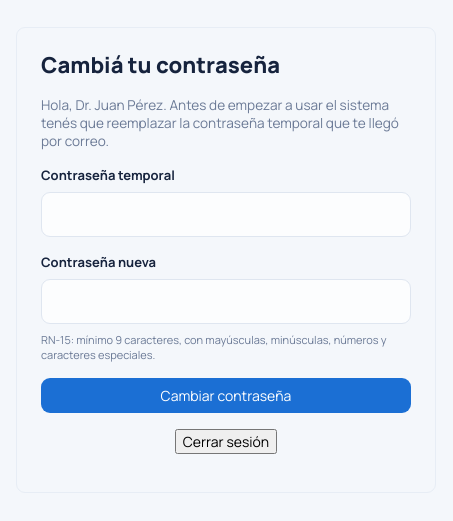
Test case: CambiarPassword › una contraseña que no cumple RN-15 muestra el error sobre el campo
In the password field labelled "Contraseña temporal": (226, 214) [41, 192, 411, 236], type "Ab3$Kd9!Xz2P"
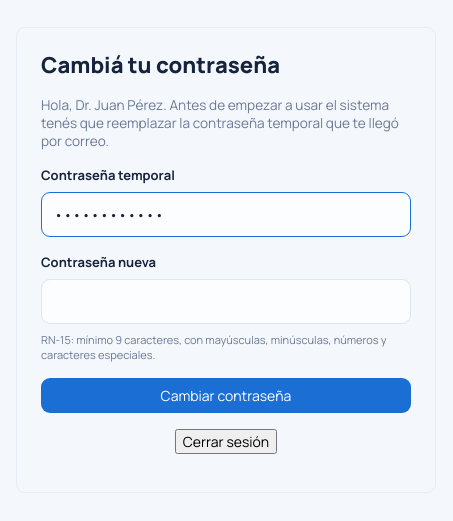
In the password field labelled "Contraseña nueva": (226, 301) [41, 278, 411, 324], type "corta"
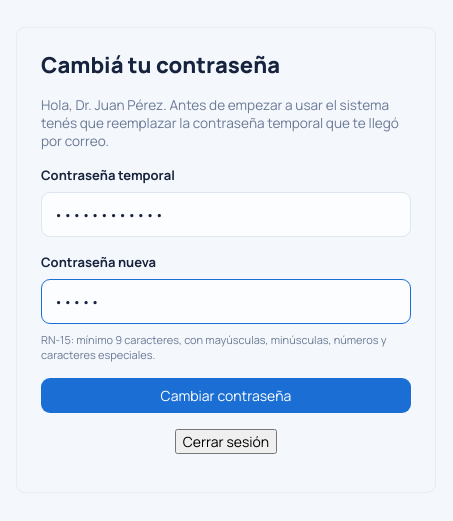
Click the button "Cambiar contraseña": click(226, 395) [41, 378, 411, 412]
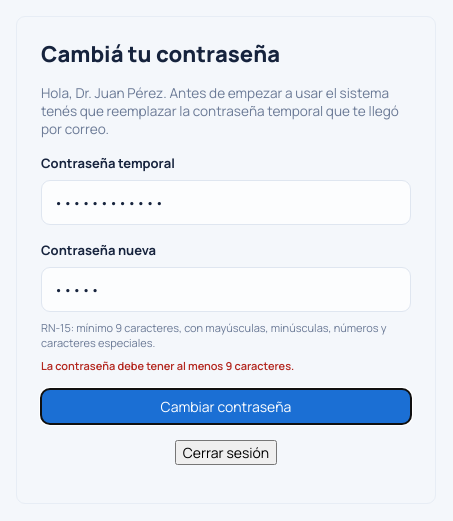
Now the text "La contraseña debe tener al menos 9 caracteres." is shown, box [41, 358, 294, 373]
